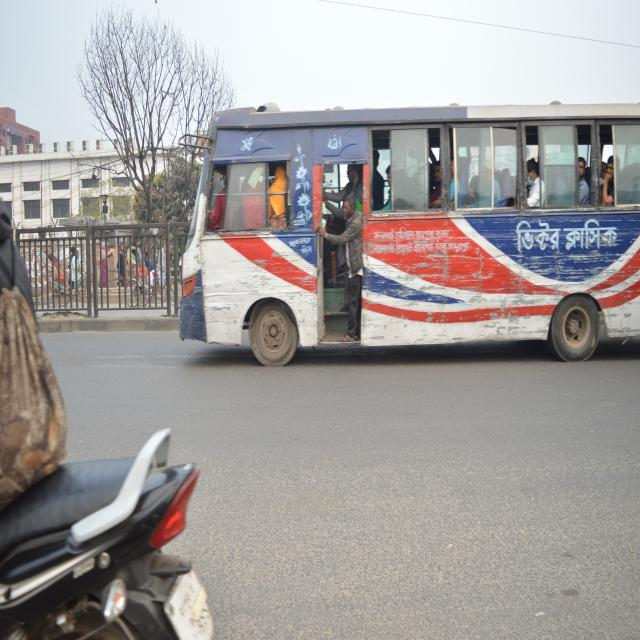bus: (166, 73, 640, 377)
motorbike: (0, 382, 238, 640)
